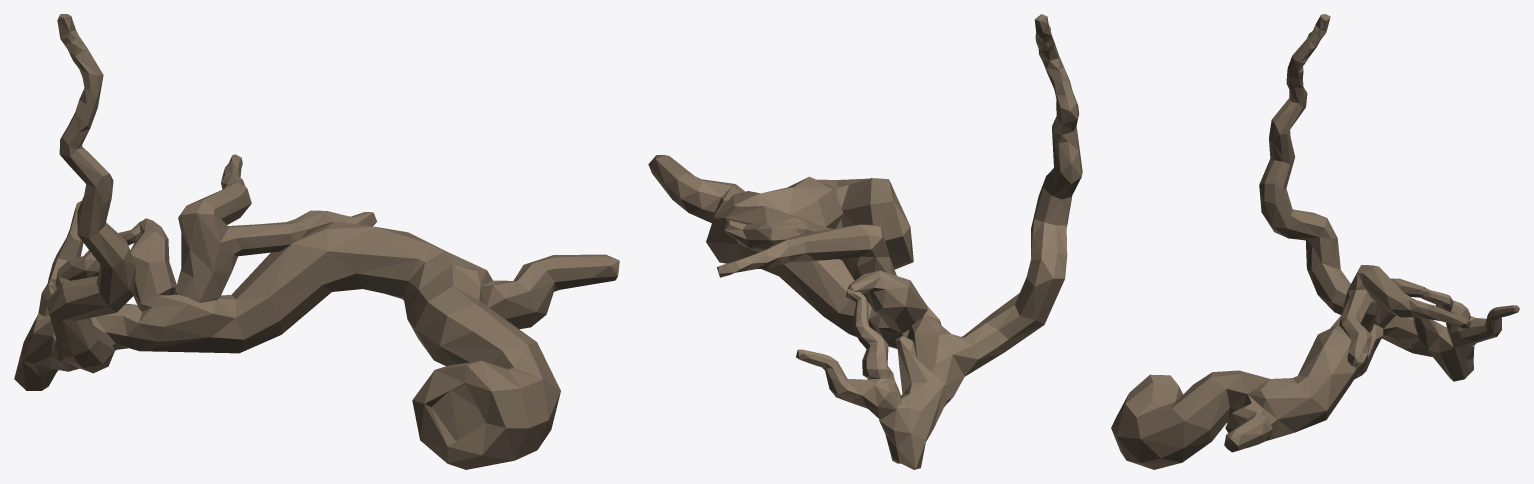
Rendered from ea01_env_treeroot_01c.glb.
3 views of the same model, side by side, from view 1: azimuth 30°, elevation 25°; view 2: azimuth 150°, elevation 25°; view 3: azimuth 270°, elevation 25° (orthographic). The views are drawn at different scales.
Visible parts, largest first — view 1: utileria.objeto_generico.ea01_env_treeroot_01c; view 2: utileria.objeto_generico.ea01_env_treeroot_01c; view 3: utileria.objeto_generico.ea01_env_treeroot_01c.
Part boxes in pixels (x1,y1,x2,y2): utileria.objeto_generico.ea01_env_treeroot_01c: (14, 14, 619, 469); utileria.objeto_generico.ea01_env_treeroot_01c: (648, 14, 1082, 469); utileria.objeto_generico.ea01_env_treeroot_01c: (1111, 14, 1519, 469).
Size of the model in its own units: 2.69 by 2.24 by 2.43.
